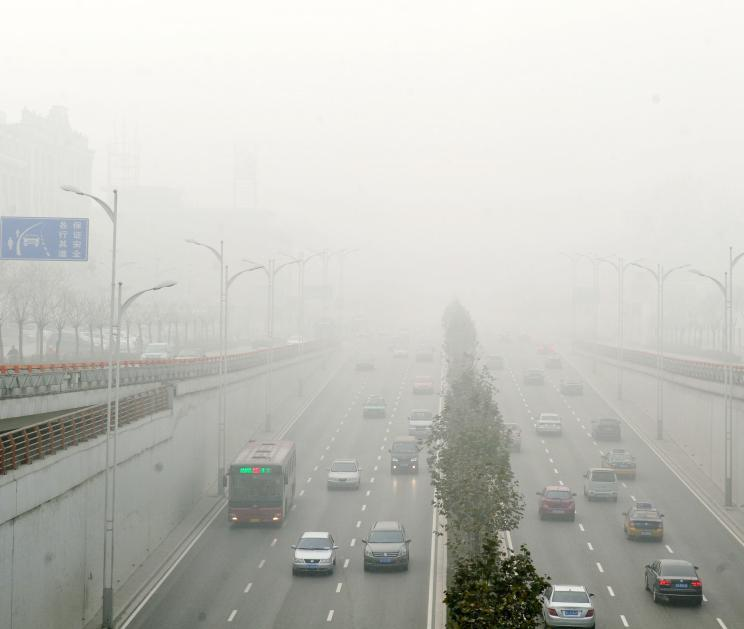bus: (220, 435, 297, 527)
car: (643, 554, 703, 605), (359, 518, 410, 572), (539, 582, 595, 628), (290, 528, 339, 575), (620, 500, 666, 542), (598, 444, 637, 484), (535, 485, 577, 521), (386, 434, 420, 477), (580, 466, 619, 503), (324, 457, 364, 490), (137, 339, 175, 373), (171, 346, 211, 375), (405, 408, 436, 441), (587, 413, 623, 440), (493, 421, 523, 450), (533, 411, 564, 437), (351, 348, 378, 373), (362, 392, 386, 420), (557, 372, 585, 395), (520, 362, 545, 386), (410, 374, 435, 397), (481, 351, 506, 372), (411, 343, 435, 364), (542, 352, 563, 370), (389, 340, 407, 360)
